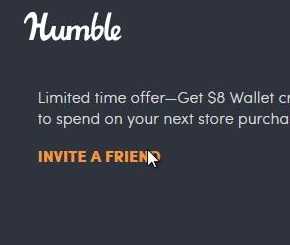cursor: (146, 148, 160, 170)
